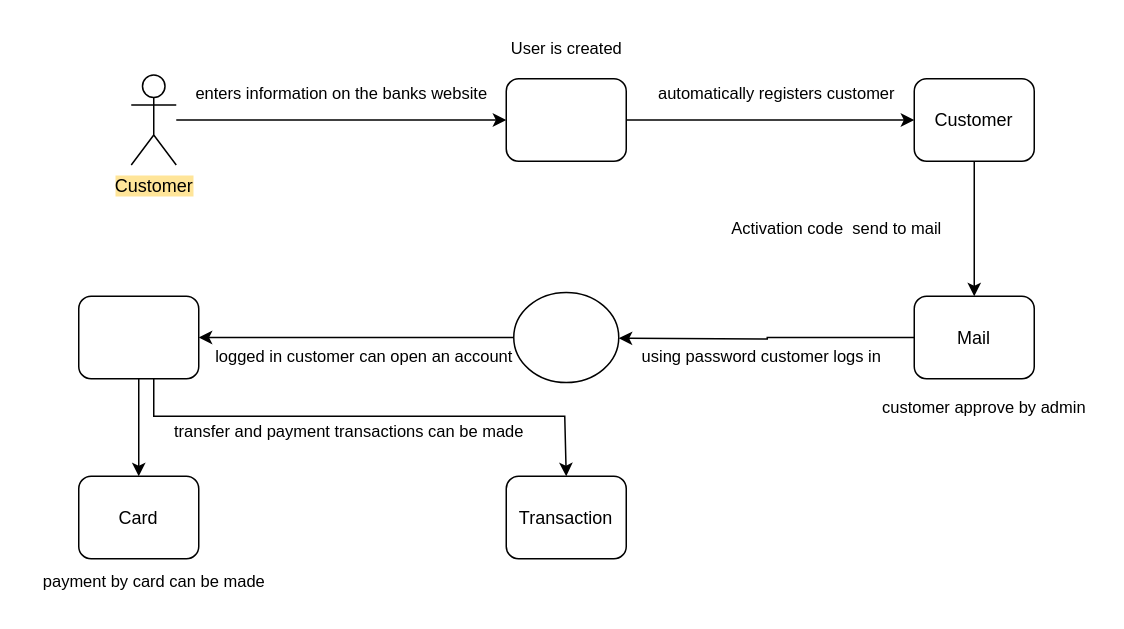
The diagram is 1124 pixels wide and 629 high, and some of its shapes have lost their labels. The shapes that lost their labels are listed below. From the top down, each one's centre as x and y in pixels, then its label:
(565,119): Auth
(138,337): Account
(565,336): Login
